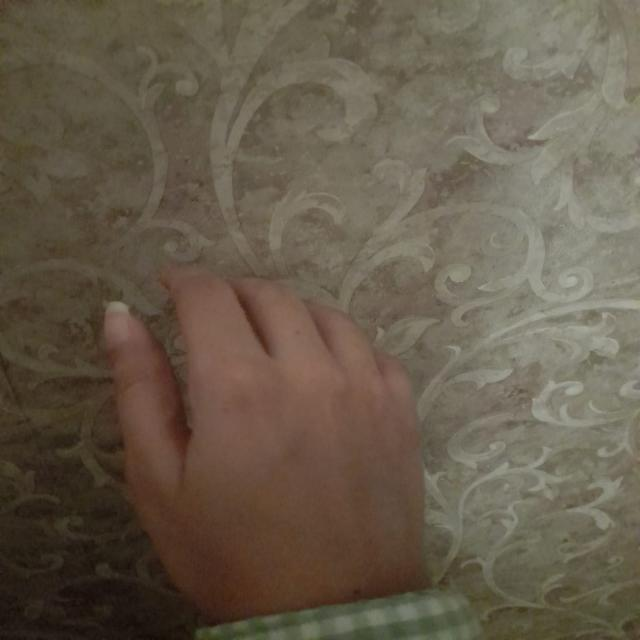Open Hand: (99, 258, 435, 603)
